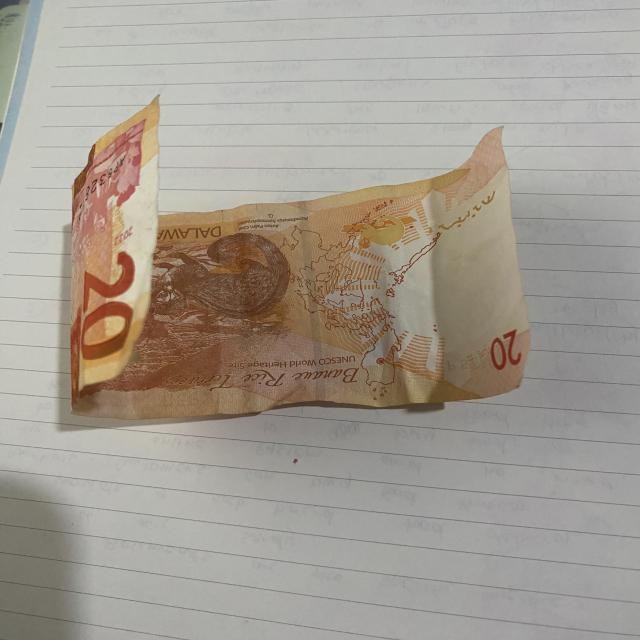value: (72, 248, 137, 371)
